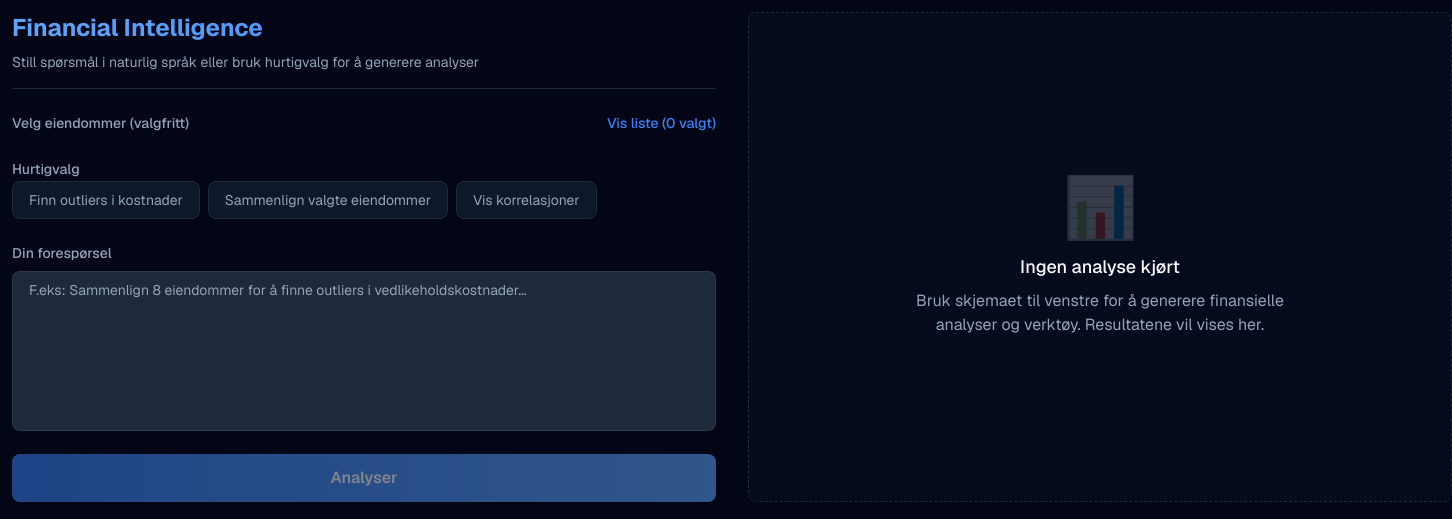
Scenario: FinancialQueryPanel › handles error state
Replace the text in the text box with placeholder "Sammenlign 8 eiendommer" with "Test query" at [364, 351], box [12,271,716,431]
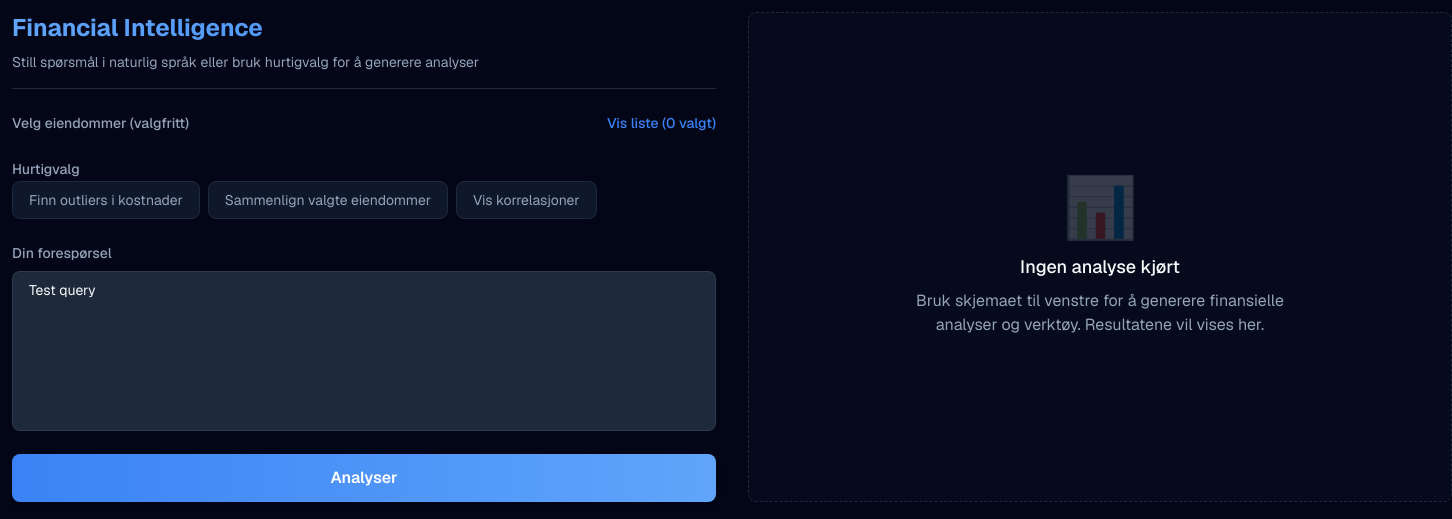
Click the button "Analyser" at [364, 478], box [12,454,716,502]
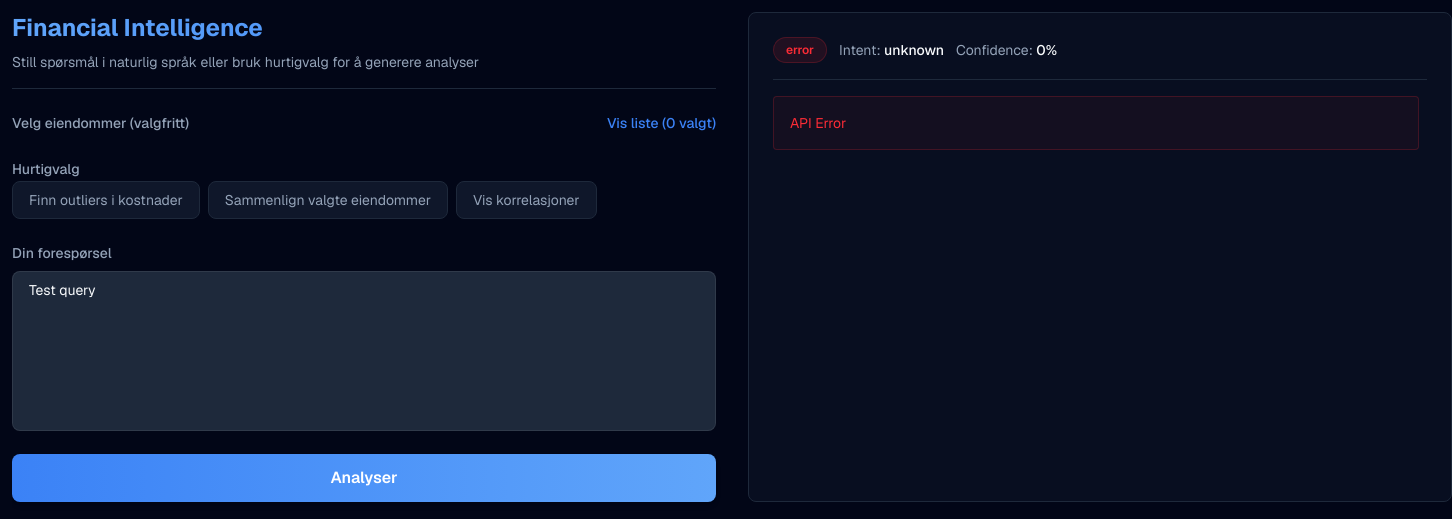
Expected: the text "API Error" is shown, [790,114,846,132]
